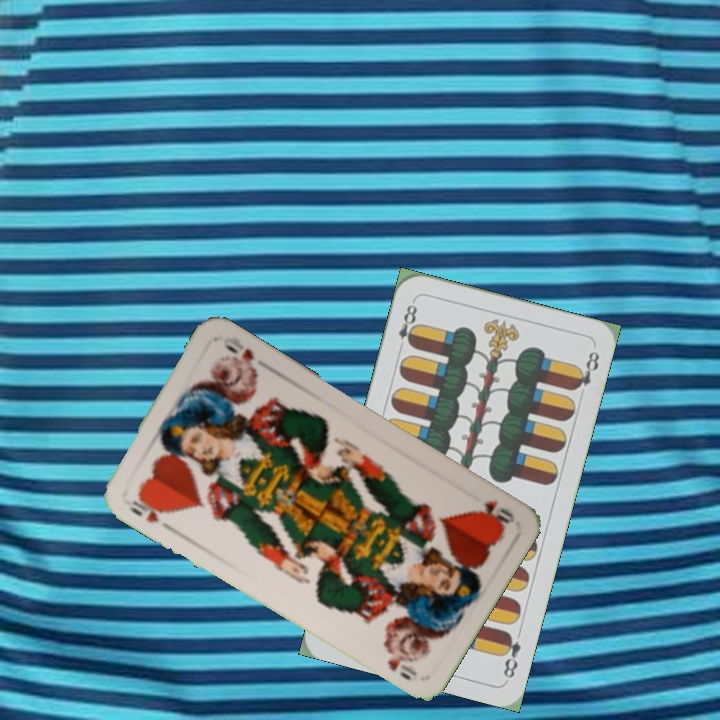E8: (394, 296, 421, 350), (497, 627, 524, 681)
HO: (127, 491, 172, 525), (474, 495, 517, 529)
